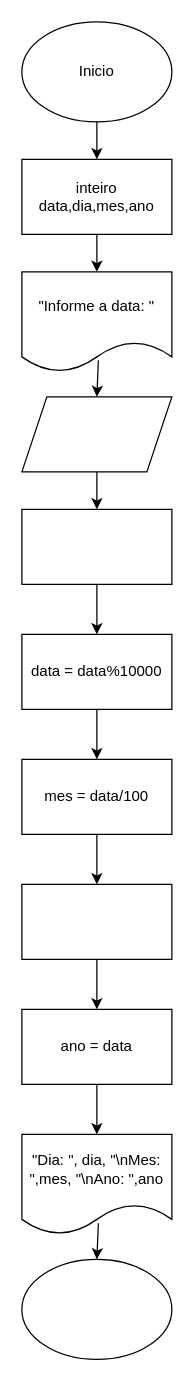
Some shapes in this 194 by 1381 pixel diagram are drawn without their labels. The centre of each missing label's shape, as x and y in pixels:
data: point (96, 434)
data = data%100: point (96, 921)
dia = data/10000: point (96, 546)
Fim: point (96, 1308)
